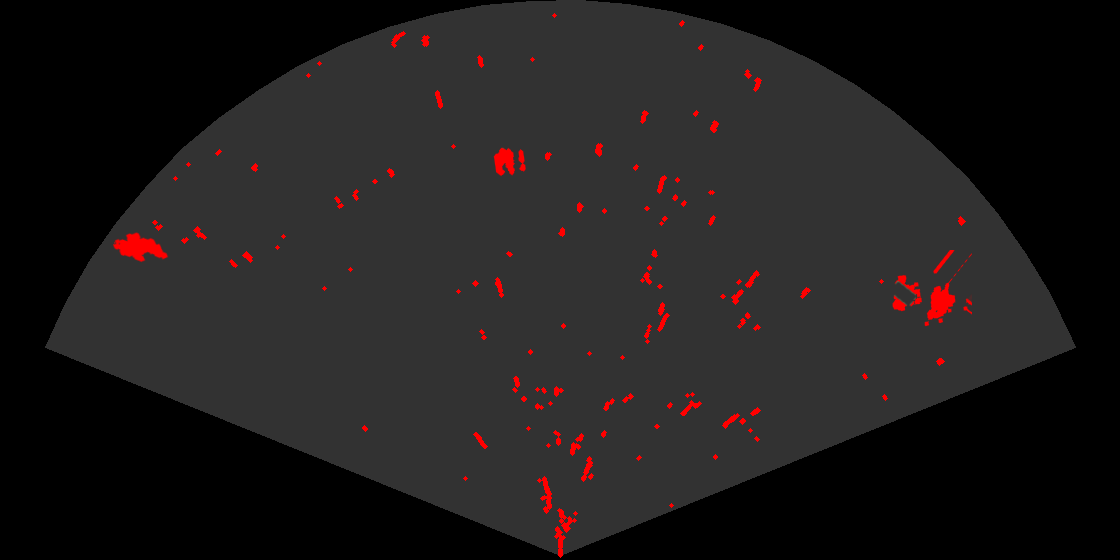AUV: (111, 231, 170, 264)
ball: (492, 146, 527, 178)
cage: (891, 250, 972, 328)
